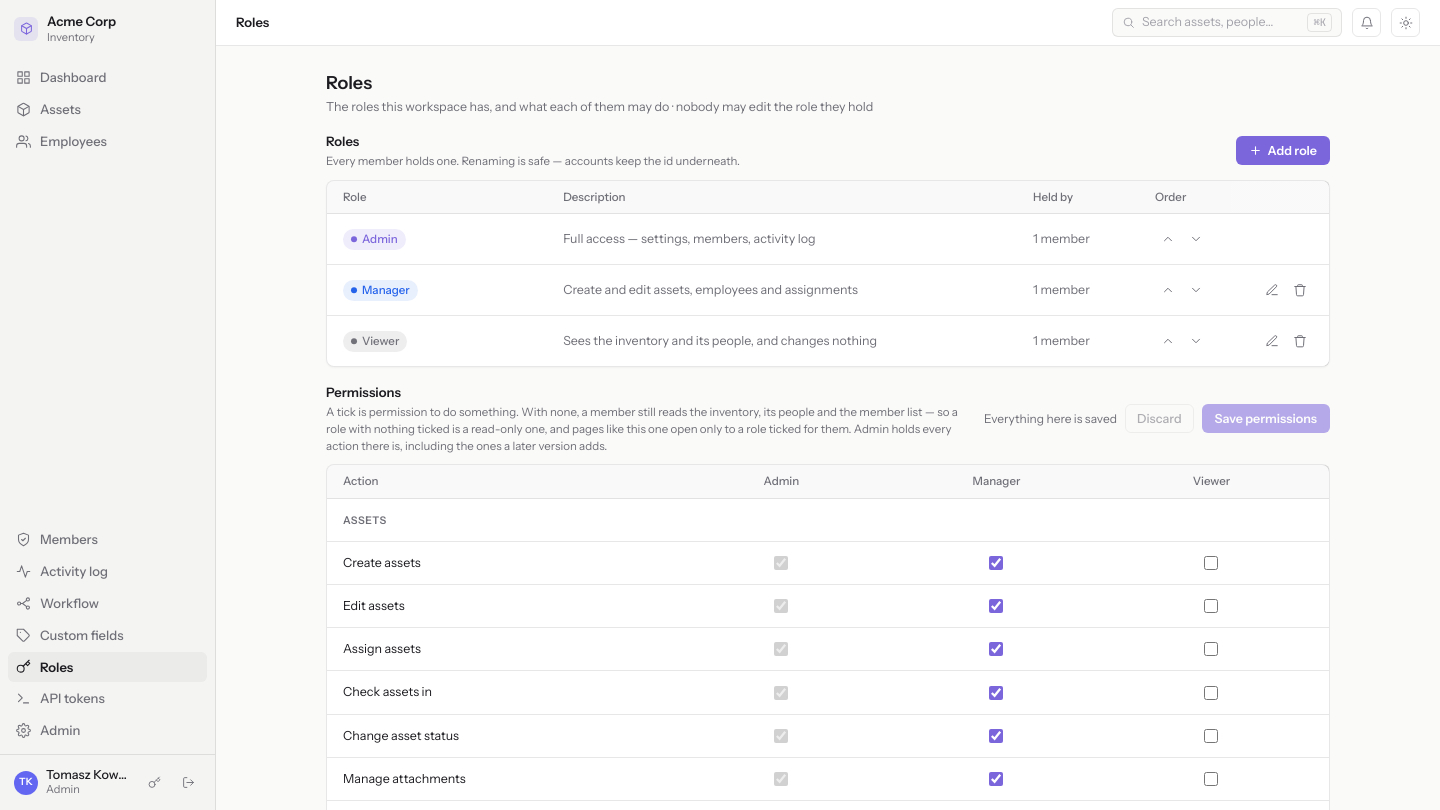
Scenario: deleting a role › opens on where the members go when the page already knows somebody holds it
Step 1. Click the button named "Delete Manager" → (1300, 290), box [1287,277,1313,303]
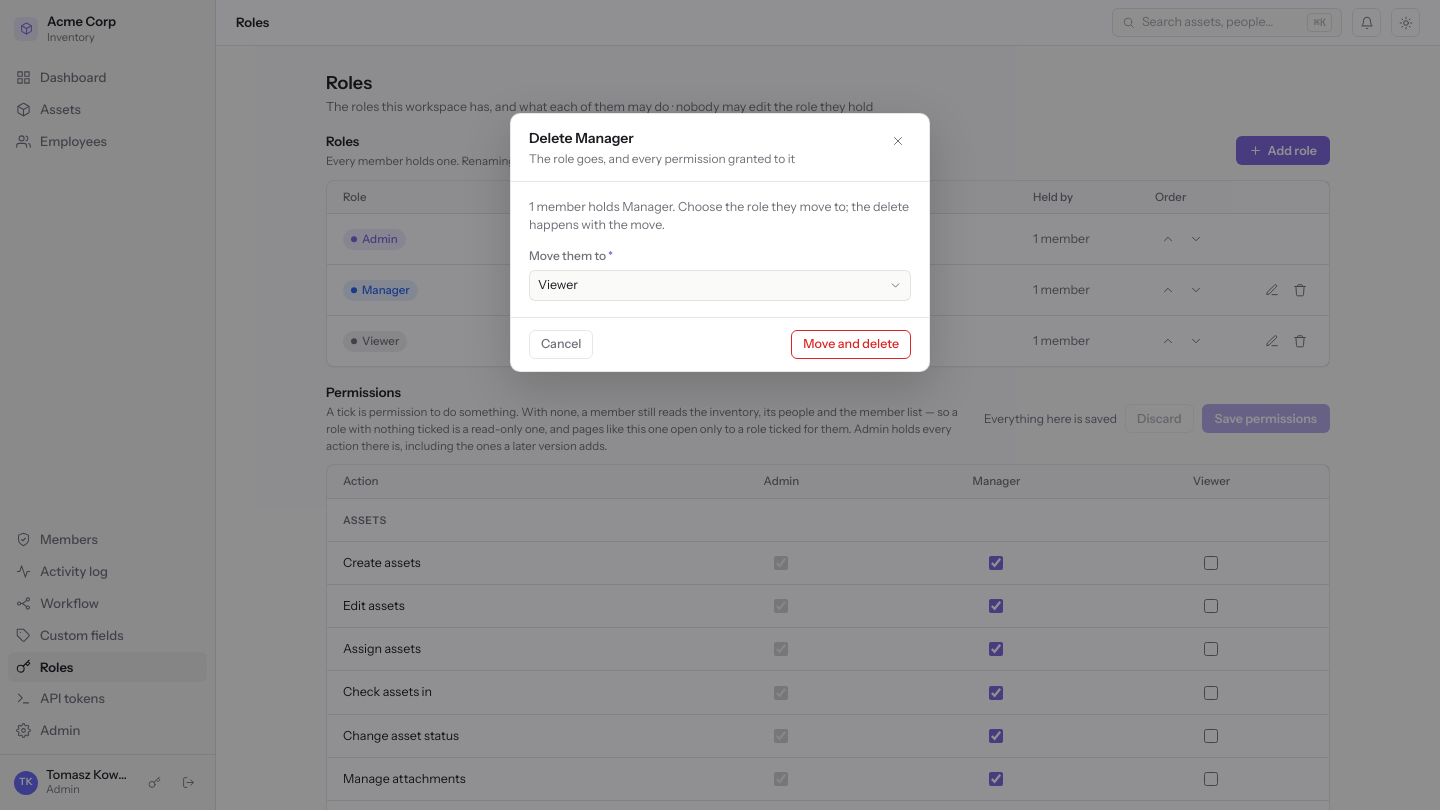
Check: the text "1 member holds Manager" is shown, box [529,198,911,234]
Step 2. Click the dropdown named "Move them to" → (558, 285), box [529,270,911,301]
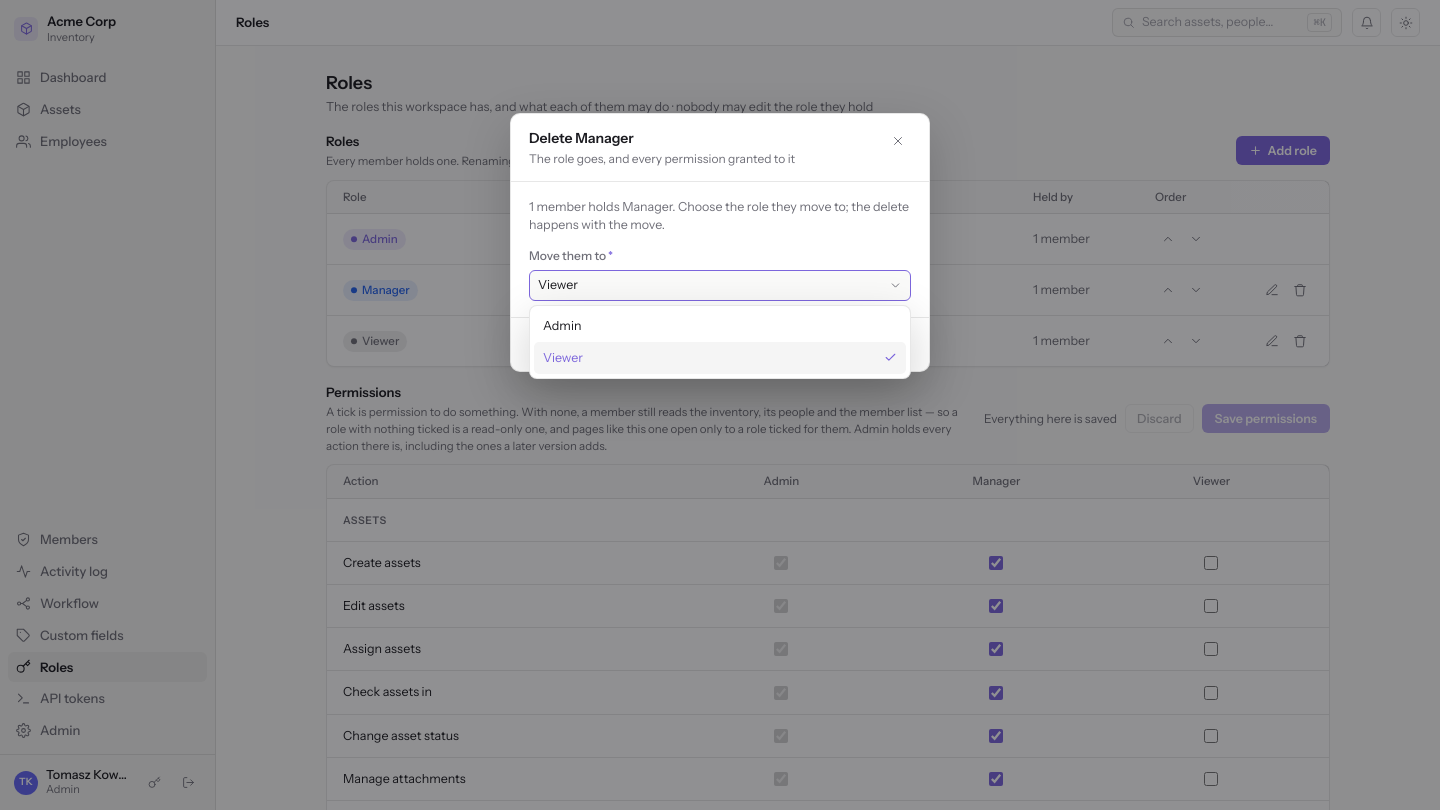
Step 3. Click the option "Viewer" → (563, 357), box [534,342,906,374]
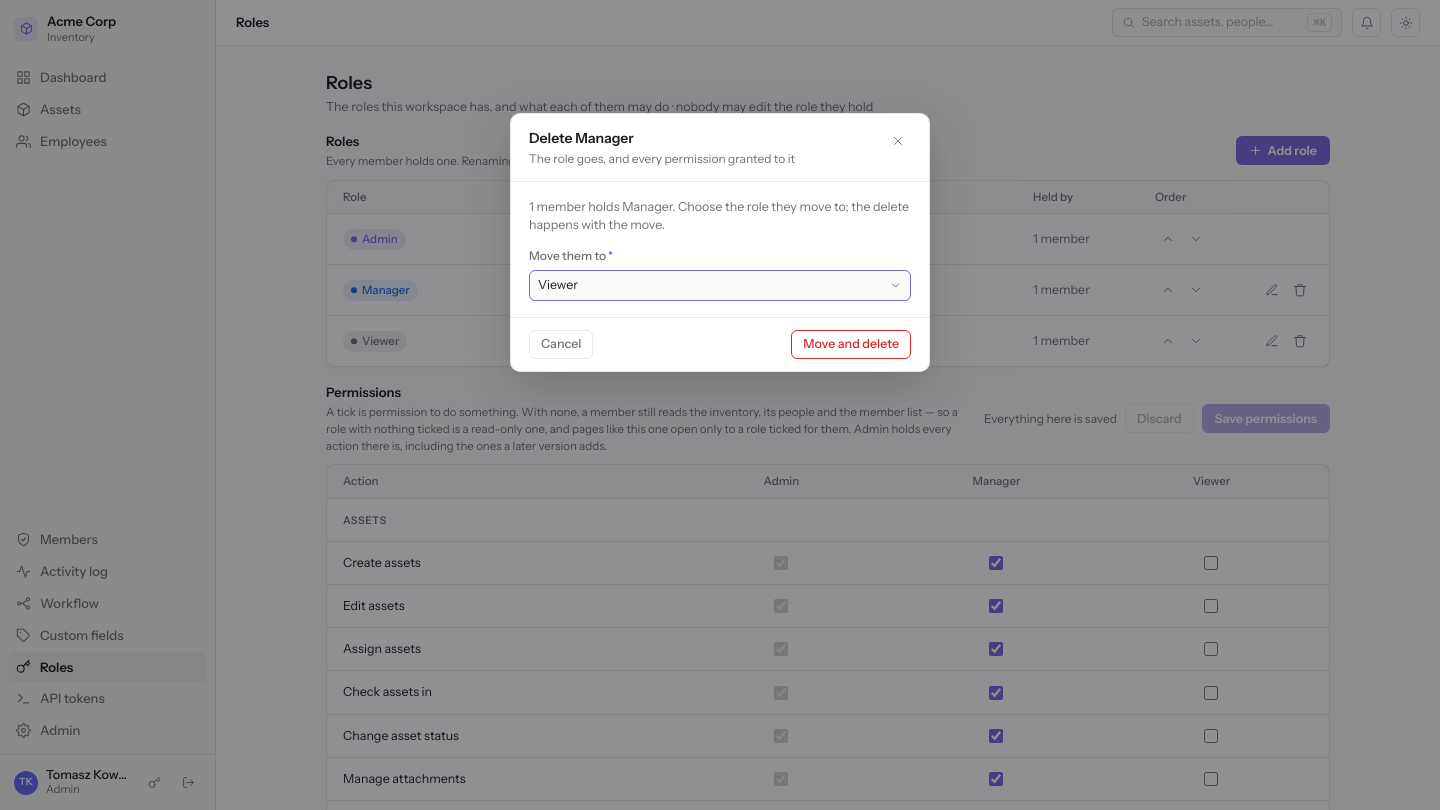
Step 4. Click the button "Move and delete" → (851, 344), box [791,330,911,359]
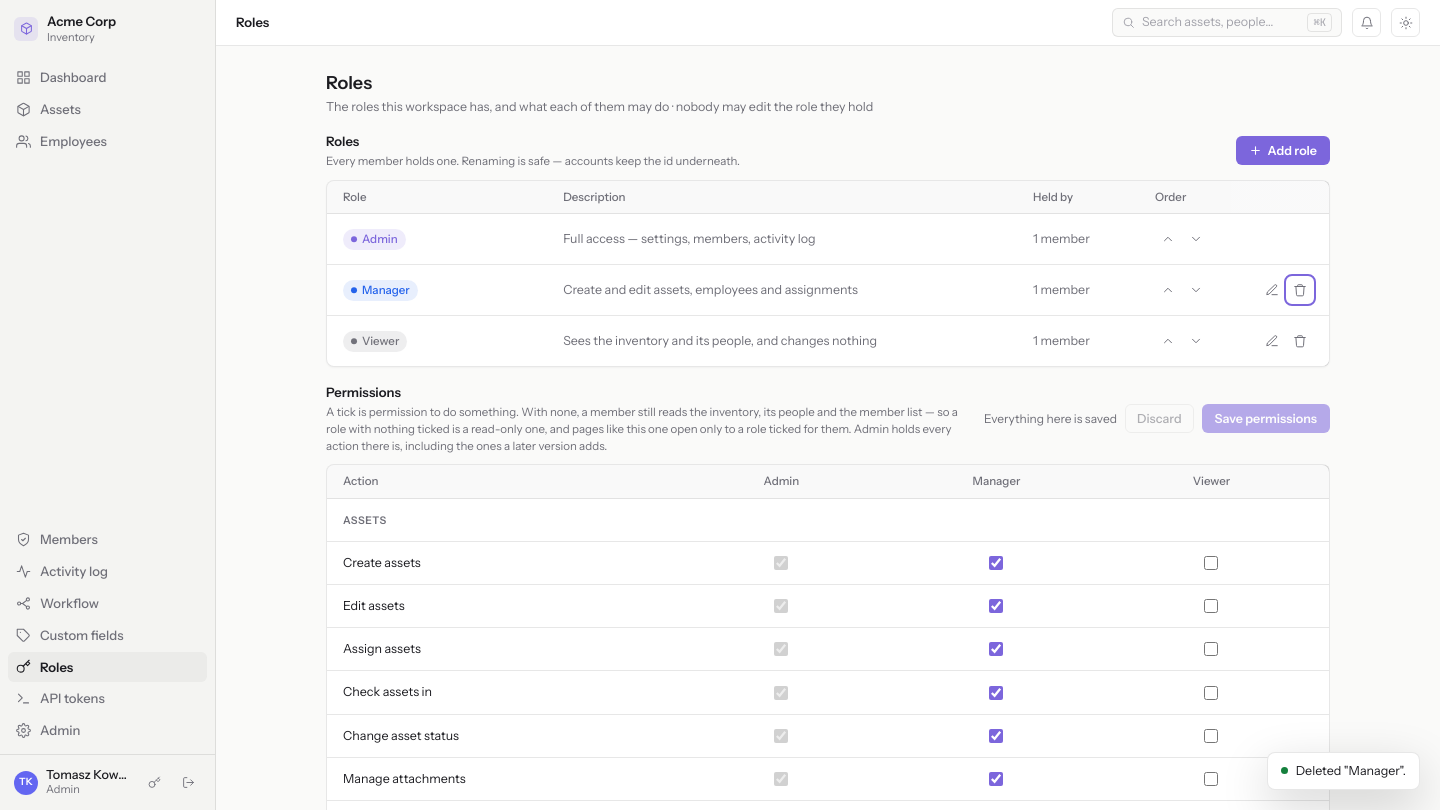
Check: the dialog is gone
